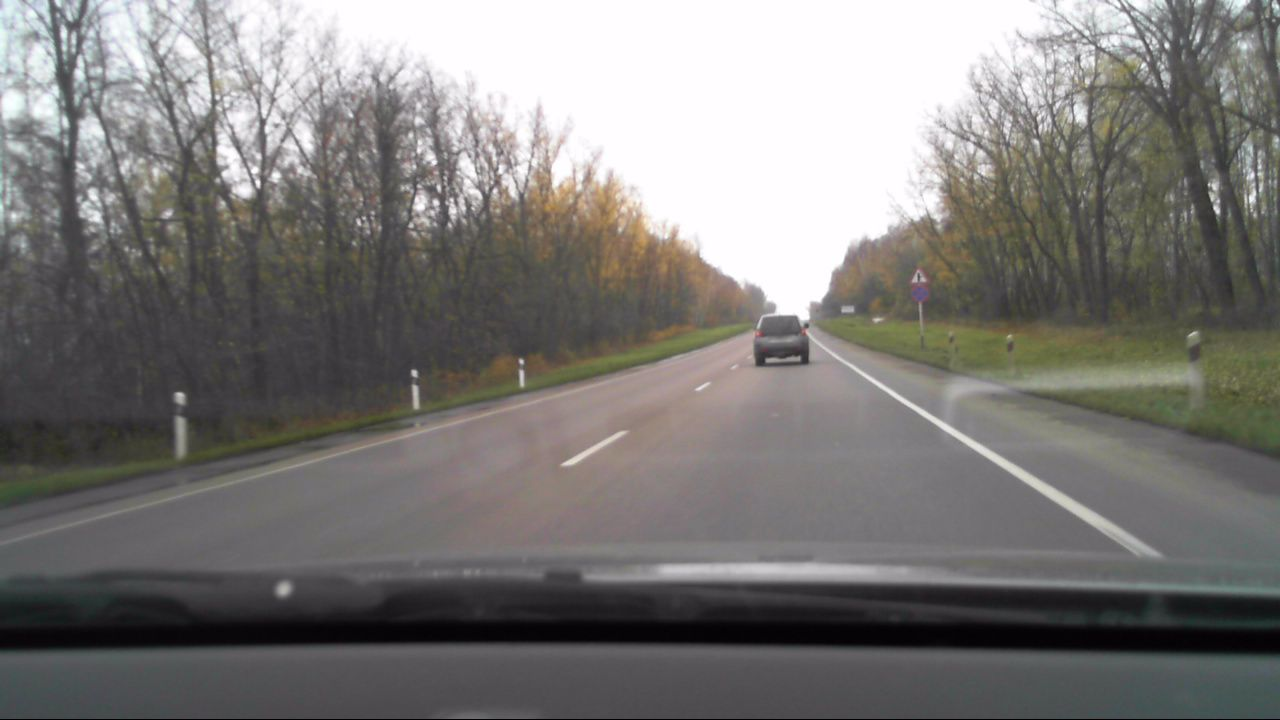No Parking: (910, 284, 929, 303)
